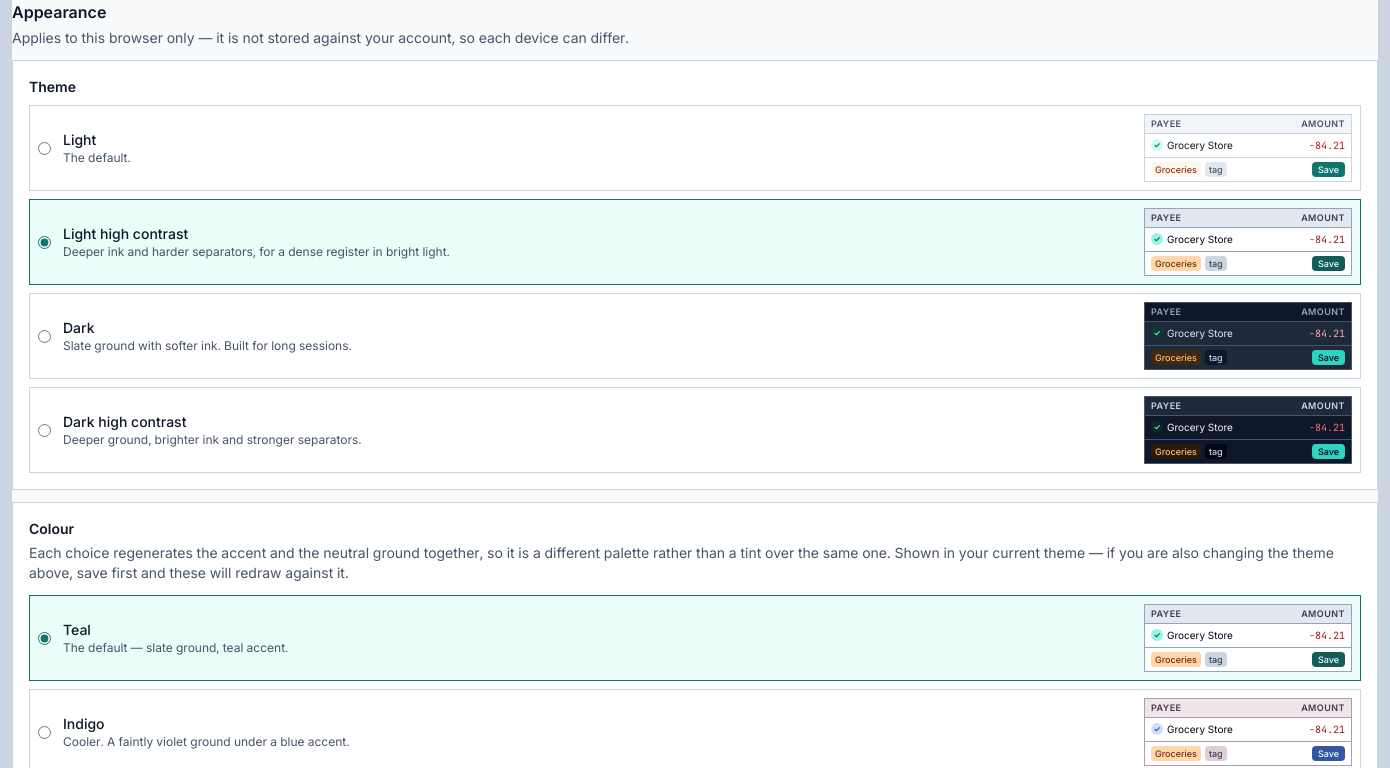
Test case: AppearancePanel › Cancel drops the draft and leaves the applied choice alone
The image size is (1390, 768).
Step 1. Click the radio button labelled "Dark" → coordinates (44, 336), box [38,330,51,342]
(page scrolled)
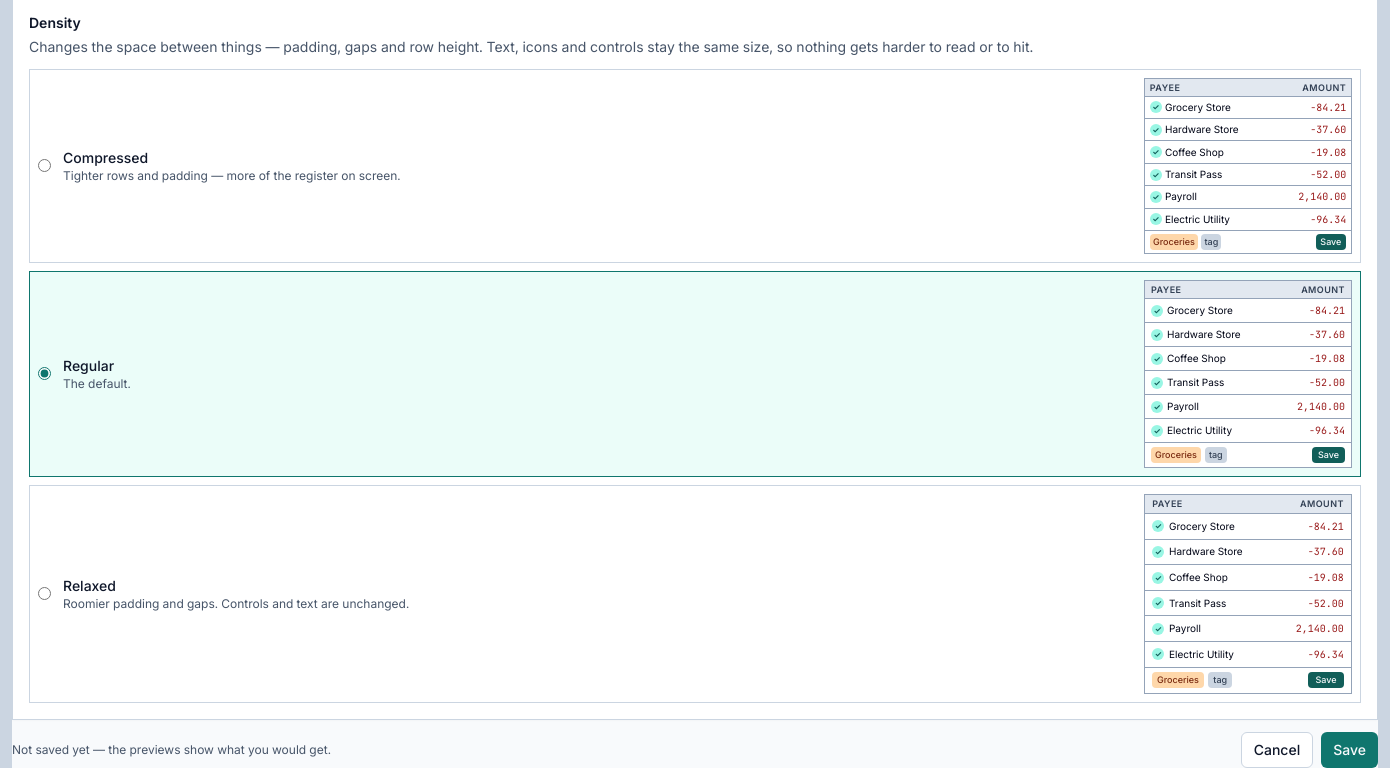
Step 2. Click the button "Cancel" → coordinates (1277, 750), box [1241,732,1313,767]
(page scrolled)
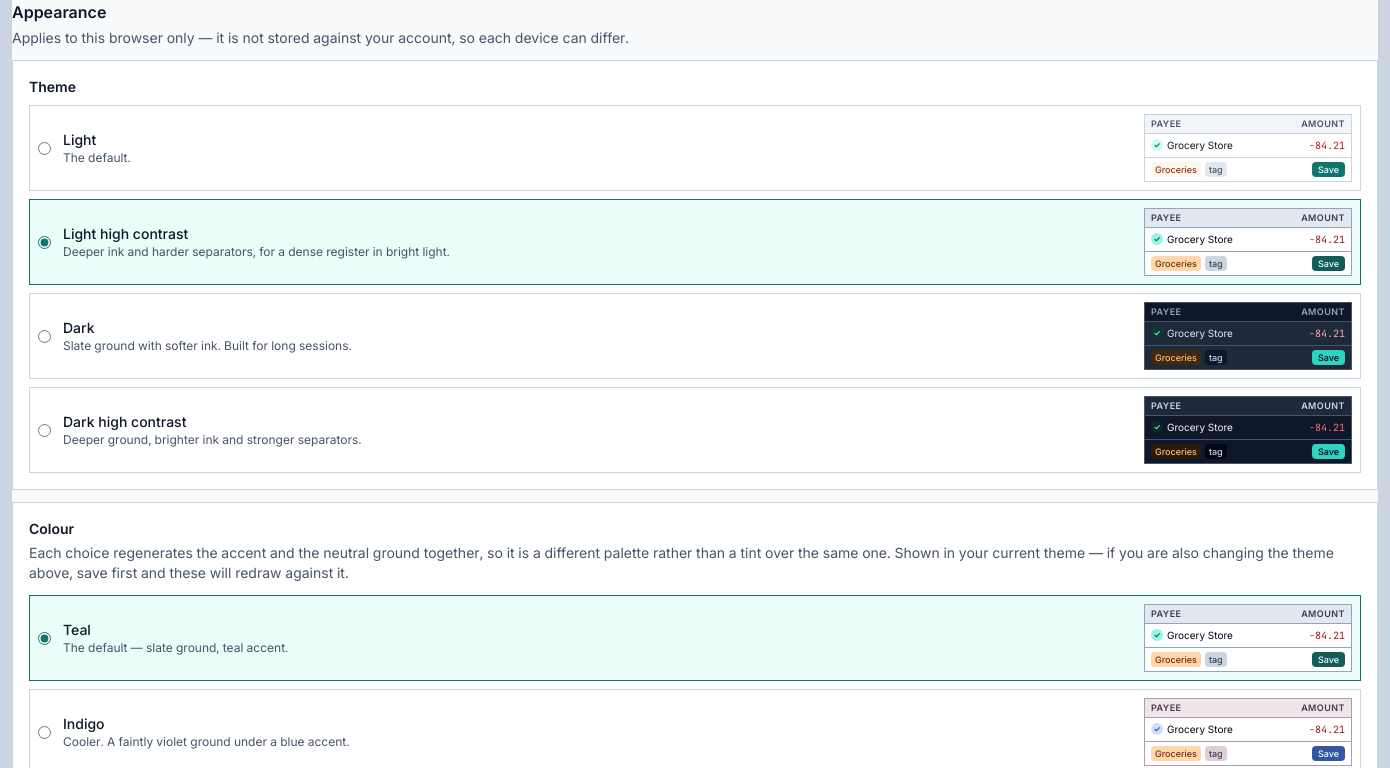
Expected: the radio button labelled "Light high contrast" is checked, [38,236,51,248]
